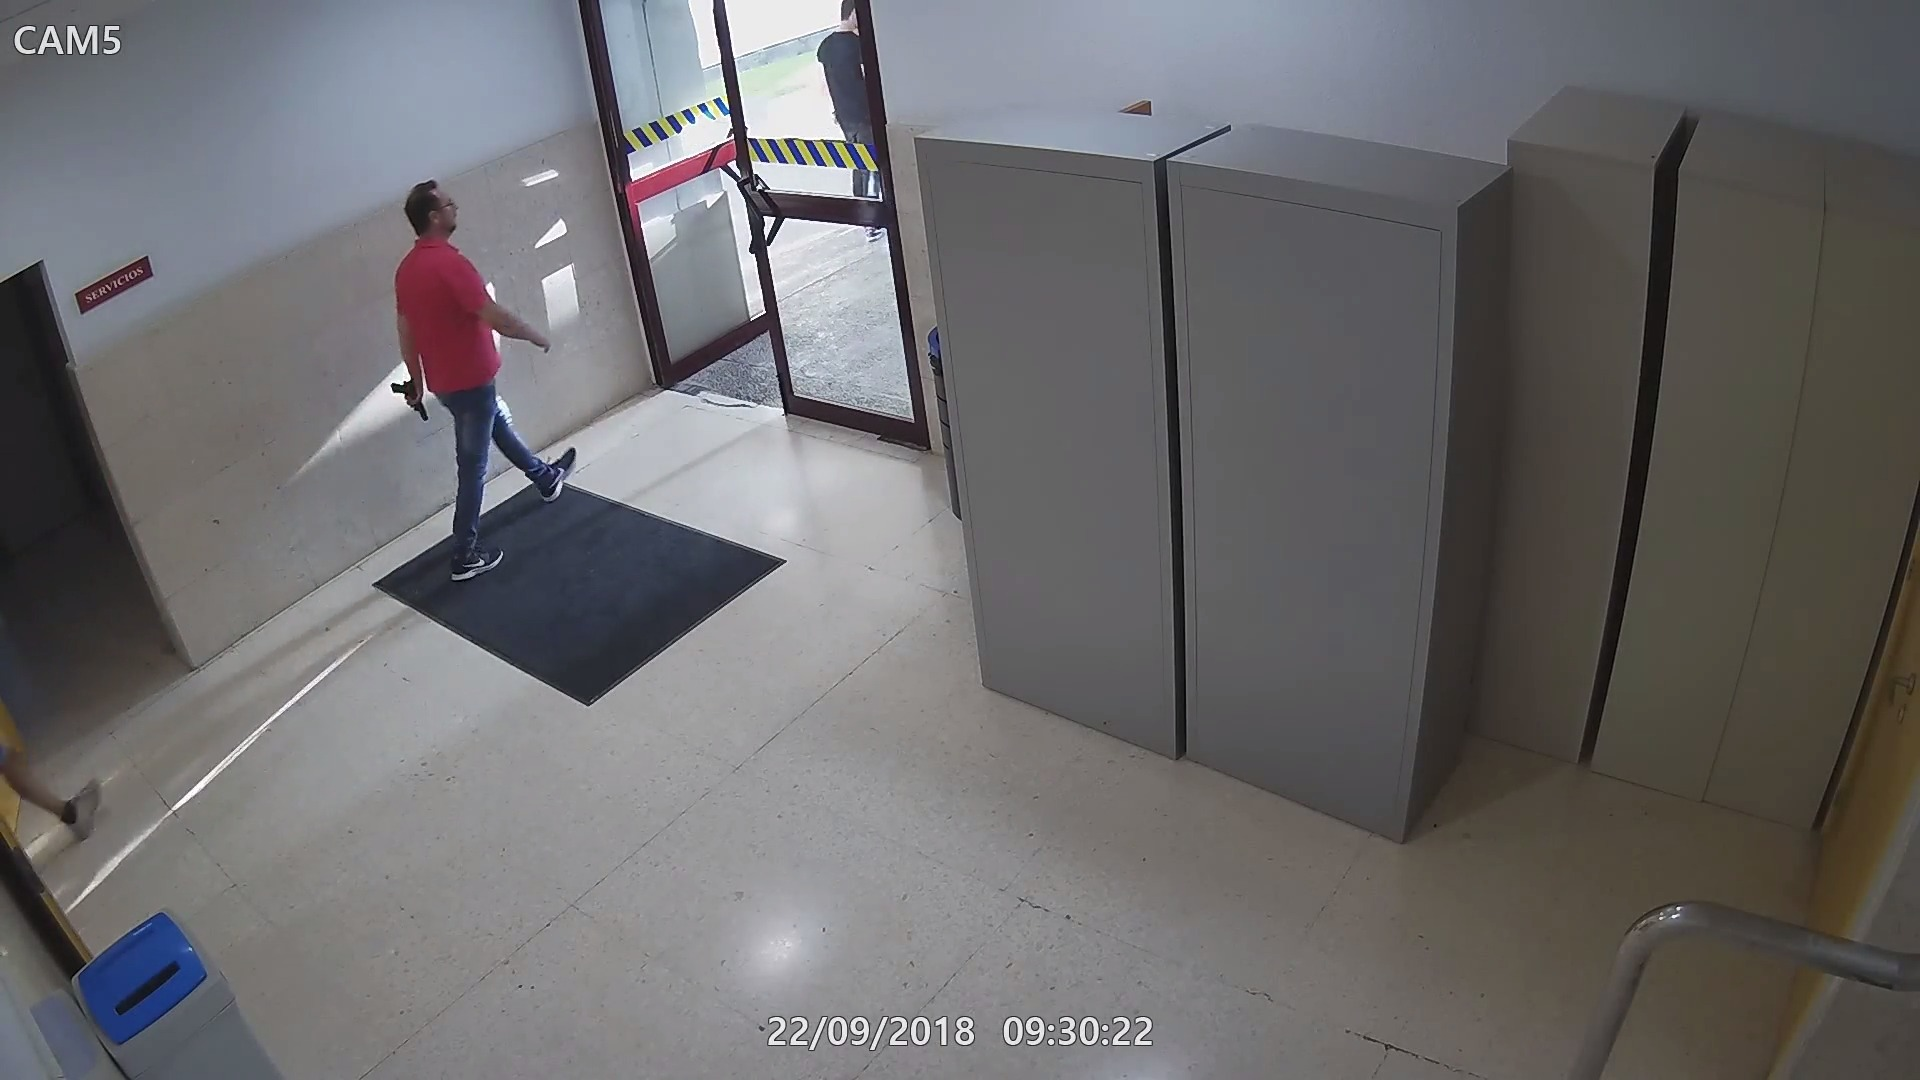Handgun: (388, 375, 431, 419)
